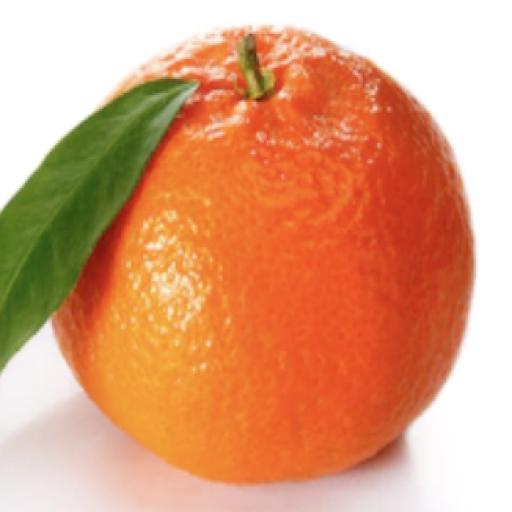orange: (54, 27, 474, 483)
